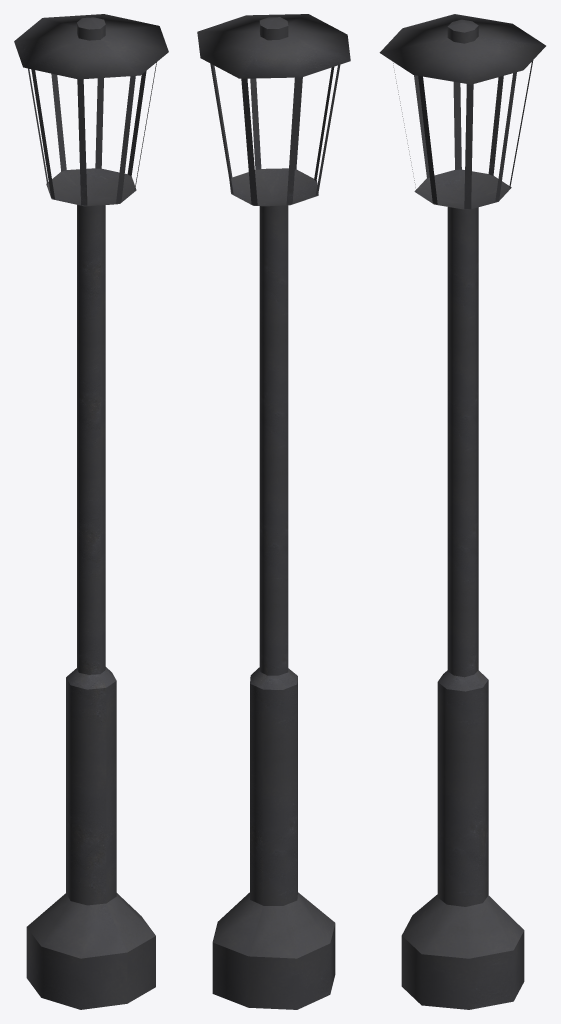
The model's file is TestStreetlight01a.fbx.
3 renders of one model, left to right at view 1: azimuth 30°, elevation 25°; view 2: azimuth 150°, elevation 25°; view 3: azimuth 270°, elevation 25°, orthographic.
Visible parts, largest first — view 1: Streetlight01; view 2: Streetlight01; view 3: Streetlight01.
Boxes of the visible parts, x1,y1,x2,y2 form: Streetlight01: (14, 14, 168, 1009); Streetlight01: (197, 14, 350, 1009); Streetlight01: (379, 14, 545, 1009).
Bounding box in the file's own units: 48.65 × 309 × 48.59.
1 material, 1 textured.
